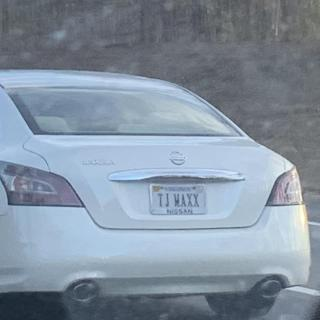license: (150, 184, 208, 216)
